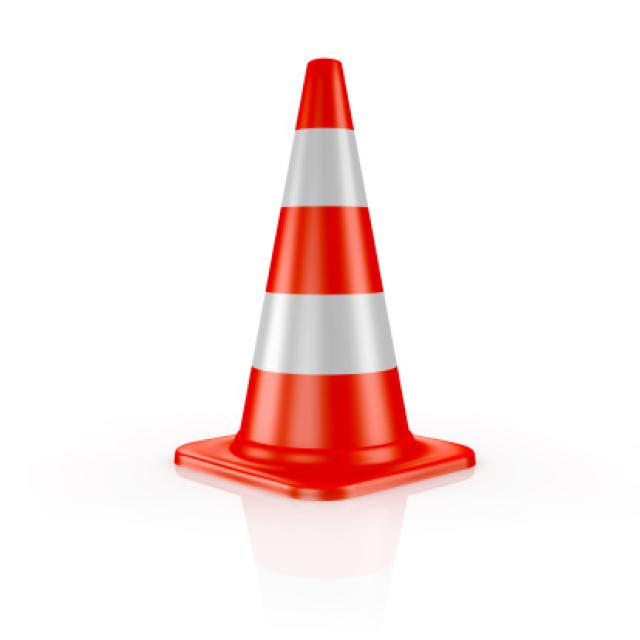cone: (150, 49, 487, 504)
